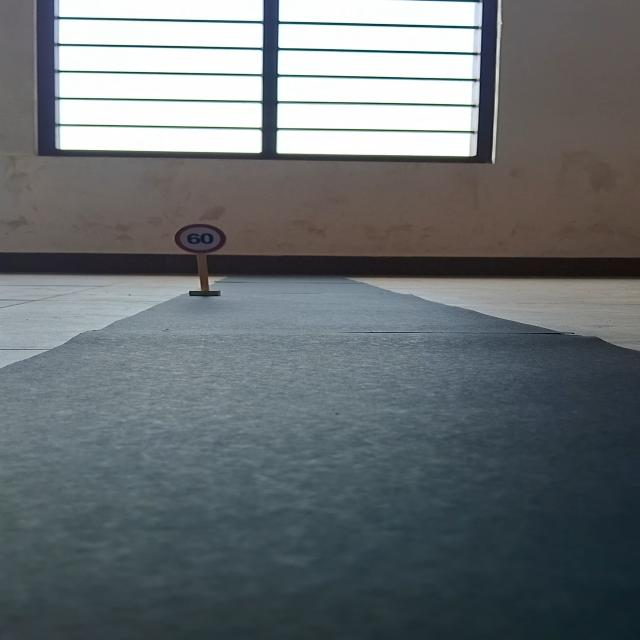Speed60: (173, 222, 227, 254)
